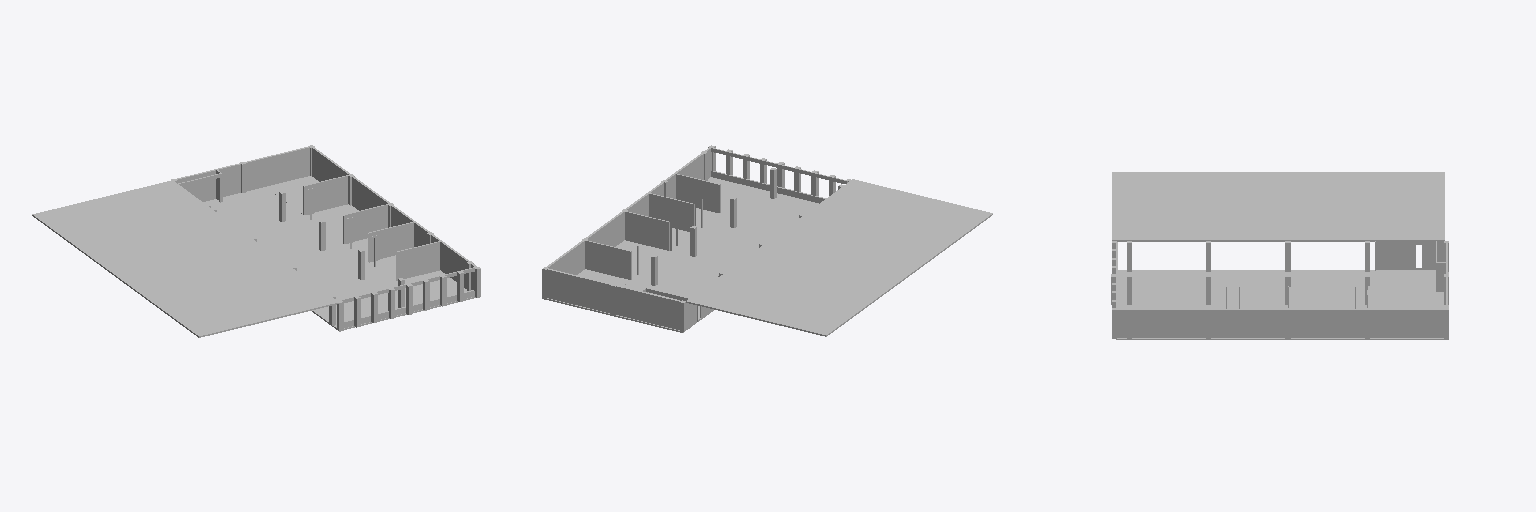
The picture shows the model from 3 angles: view 1: azimuth 30°, elevation 25°; view 2: azimuth 150°, elevation 25°; view 3: azimuth 270°, elevation 25°; orthographic projection.
Parts seen in each view (by area): view 1: Group_71_ID490, Group_43_ID286, Group_4_ID13, Group_3_ID4, Group_48_ID321, Group_45_ID300, Group_47_ID314, Group_44_ID293, Group_51_ID350; view 2: Group_71_ID490, Group_43_ID286, Group_4_ID13, Group_3_ID4, Group_48_ID321, Group_45_ID300, Group_47_ID314, Group_51_ID350, Group_50_ID343; view 3: Group_71_ID490, Group_43_ID286, Group_3_ID4, Group_8_ID41.
Boxes of the visible parts, <box> form: Group_71_ID490: <box>32,180,338,337</box>; Group_43_ID286: <box>203,176,475,329</box>; Group_4_ID13: <box>177,146,311,201</box>; Group_3_ID4: <box>312,147,476,289</box>; Group_48_ID321: <box>369,222,440,280</box>; Group_45_ID300: <box>303,175,347,214</box>; Group_47_ID314: <box>345,204,387,240</box>; Group_44_ID293: <box>266,176,316,213</box>; Group_51_ID350: <box>344,290,474,327</box>; Group_71_ID490: <box>686,179,992,336</box>; Group_43_ID286: <box>542,177,818,332</box>; Group_4_ID13: <box>547,268,683,329</box>; Group_3_ID4: <box>547,147,711,274</box>; Group_48_ID321: <box>649,174,720,231</box>; Group_45_ID300: <box>587,240,631,279</box>; Group_47_ID314: <box>626,211,669,250</box>; Group_51_ID350: <box>711,171,825,203</box>; Group_50_ID343: <box>711,147,847,183</box>; Group_71_ID490: <box>1112,172,1444,241</box>; Group_43_ID286: <box>1116,270,1448,339</box>; Group_3_ID4: <box>1117,309,1445,337</box>; Group_8_ID41: <box>1376,241,1414,269</box>.
Size of the model in its own units: 301 by 31.55 by 313.